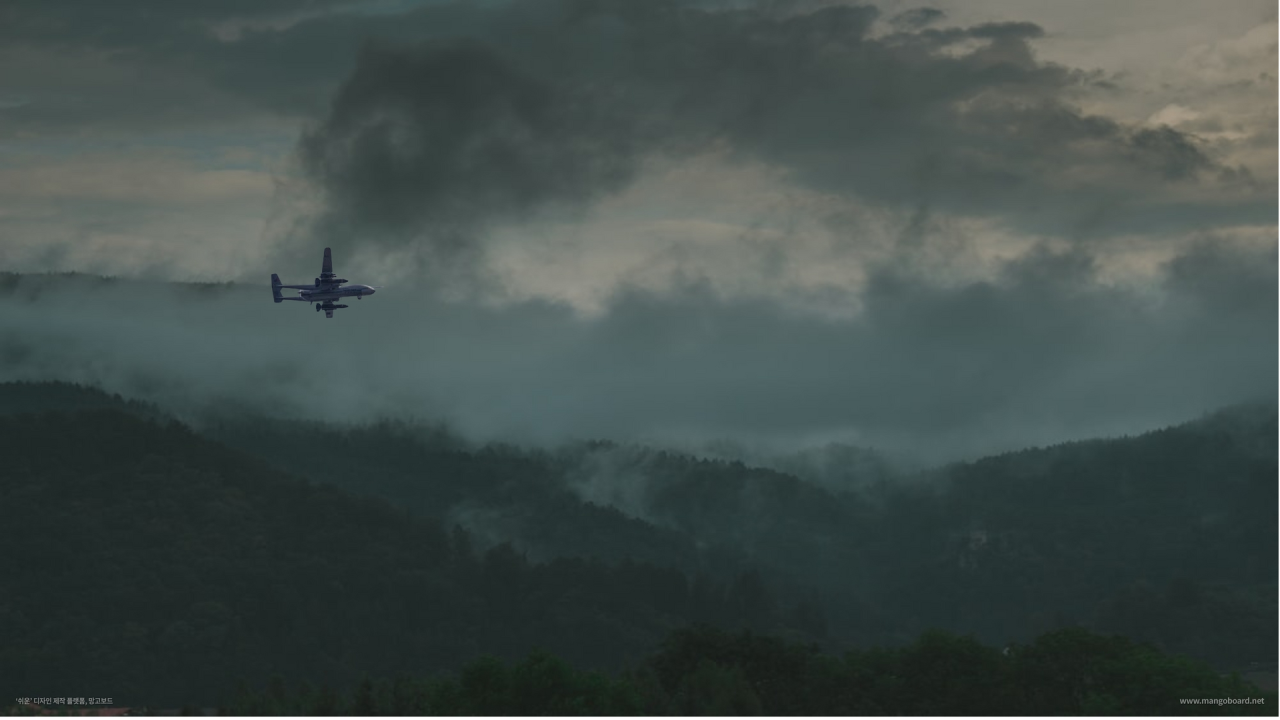military drone: (271, 246, 376, 318)
